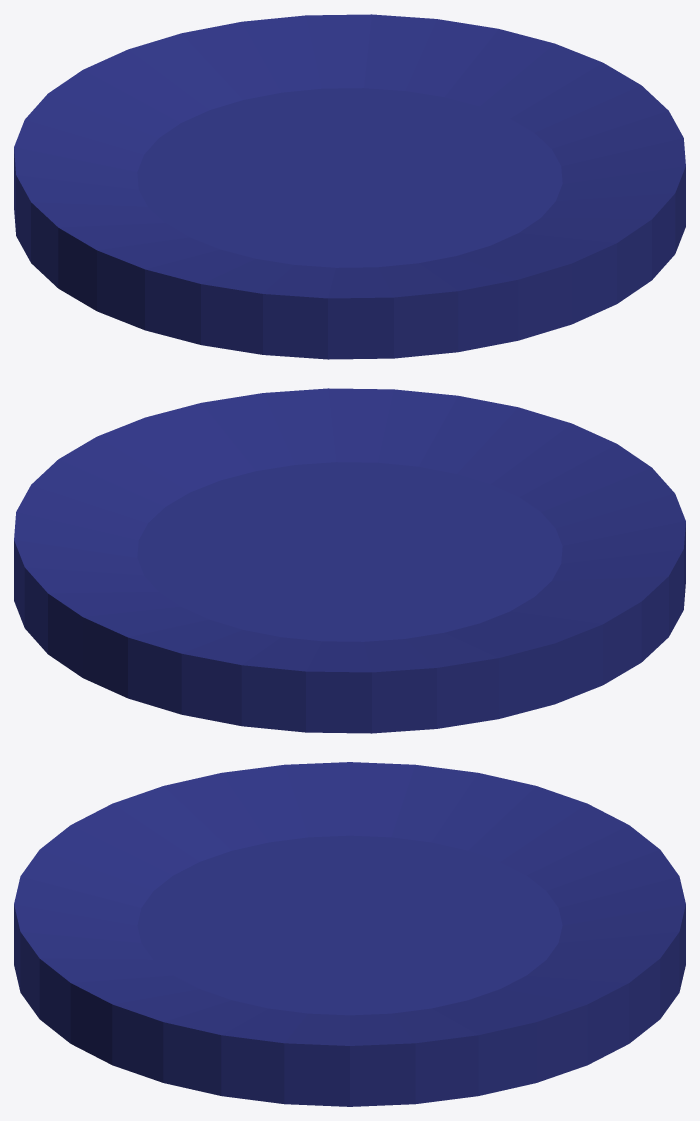
File: Pad.fbx
3 renders of one model, top to bottom at view 1: azimuth 30°, elevation 25°; view 2: azimuth 150°, elevation 25°; view 3: azimuth 270°, elevation 25°, orthographic.
Visible parts, largest first — view 1: Cylinder; view 2: Cylinder; view 3: Cylinder.
Boxes of the visible parts, x1,y1,x2,y2 form: Cylinder: [14, 14, 685, 359]; Cylinder: [14, 388, 685, 733]; Cylinder: [14, 762, 685, 1106].
Bounding box in the file's own units: 200 × 20 × 200.
